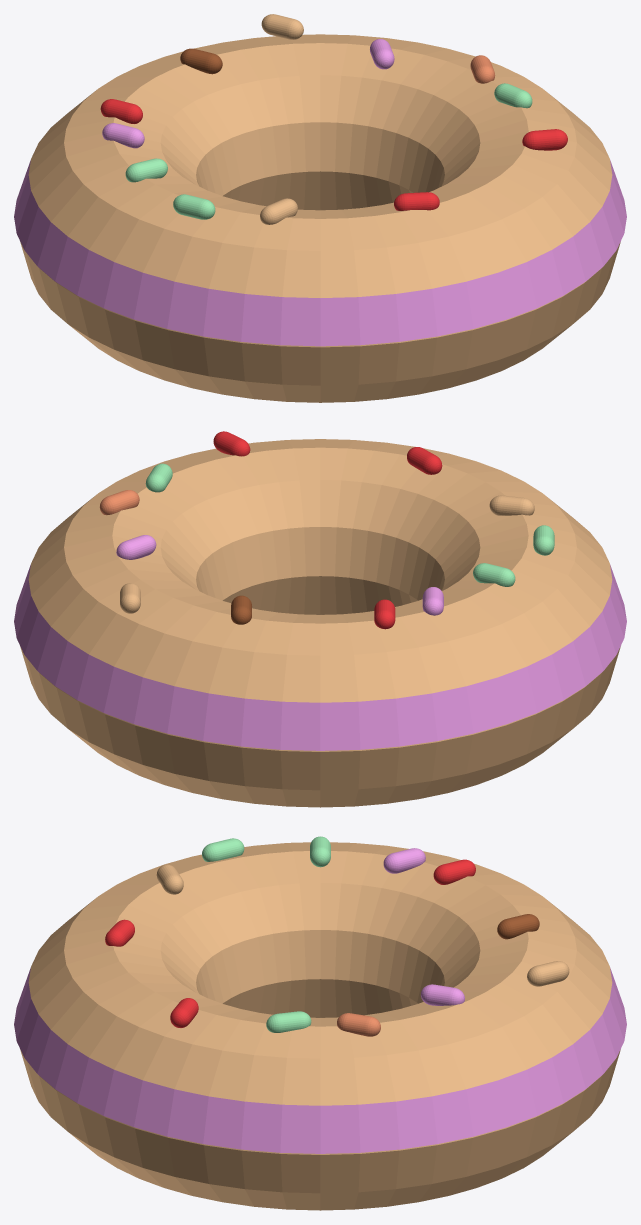
The model's file is Donuts.fbx.
3 views of the same model, one above another, from view 1: azimuth 30°, elevation 25°; view 2: azimuth 150°, elevation 25°; view 3: azimuth 270°, elevation 25° (orthographic).
Visible parts, largest first — view 1: Torus, Torus.001, Sphere.006, Sphere.003, Sphere.010, Sphere.002, Sphere.011, Sphere, Sphere.001, Sphere.008, Sphere.009, Sphere.007 (+2 smaller); view 2: Torus, Torus.001, Sphere.009, Sphere, Sphere.005, Sphere.004, Sphere.008, Sphere.006, Sphere.007, Sphere.010, Sphere.003, Sphere.001 (+2 smaller); view 3: Torus, Torus.001, Sphere.003, Sphere.004, Sphere.011, Sphere.005, Sphere.007, Sphere.001, Sphere.002, Sphere.010, Sphere.006, Sphere.009 (+2 smaller).
Part boxes in pixels (x1,y1,x2,y2): Torus: (20, 34, 620, 402); Torus.001: (14, 160, 626, 346); Sphere.006: (522, 129, 567, 150); Sphere.003: (261, 14, 303, 39); Sphere.010: (173, 194, 215, 219); Sphere.002: (180, 48, 222, 74); Sphere.011: (102, 123, 144, 148); Sphere: (125, 158, 167, 182); Sphere.001: (100, 99, 142, 123); Sphere.008: (394, 192, 439, 210); Sphere.009: (260, 198, 297, 224); Sphere.007: (494, 83, 532, 108); Torus: (20, 439, 620, 807); Torus.001: (14, 564, 626, 750); Sphere.009: (489, 495, 534, 515); Sphere: (473, 563, 515, 586); Sphere.005: (116, 535, 156, 559); Sphere.004: (99, 490, 139, 515); Sphere.008: (407, 447, 442, 474); Sphere.006: (213, 431, 250, 456); Sphere.007: (145, 463, 172, 492); Sphere.010: (533, 525, 554, 555); Sphere.003: (120, 583, 140, 613); Sphere.001: (374, 599, 395, 629); Torus: (20, 842, 620, 1210); Torus.001: (14, 967, 626, 1153); Sphere.003: (527, 961, 569, 986); Sphere.004: (337, 1013, 380, 1036); Sphere.011: (383, 848, 425, 873); Sphere.005: (421, 984, 464, 1005); Sphere.007: (266, 1011, 311, 1032); Sphere.001: (433, 859, 475, 884); Sphere.002: (497, 914, 539, 939); Sphere.010: (202, 838, 244, 861); Sphere.006: (170, 998, 198, 1027); Sphere.009: (156, 864, 183, 894).
Size of the model in its own units: 247 by 83.17 by 247.
